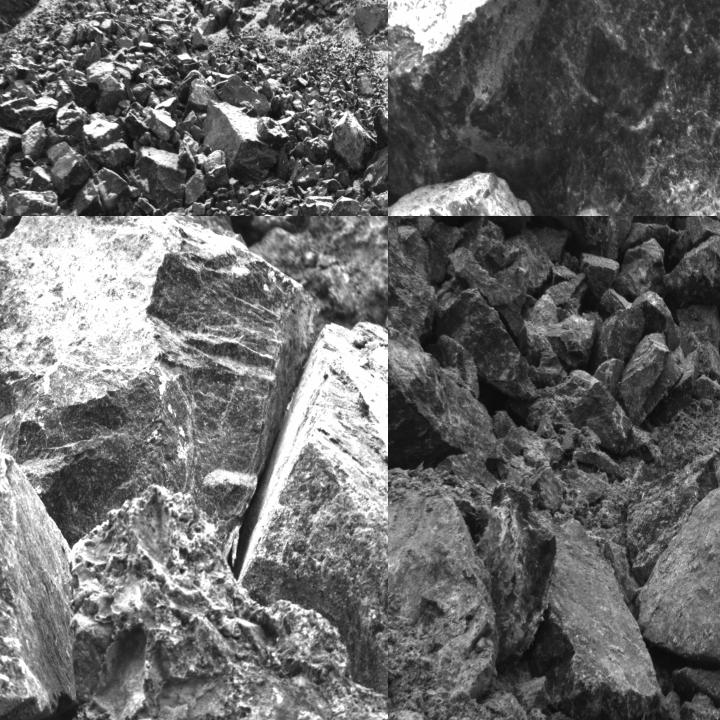stone: (0, 216, 320, 560), (388, 0, 719, 215), (528, 508, 659, 719), (388, 463, 486, 695), (388, 308, 498, 467), (637, 496, 719, 692), (388, 168, 719, 215), (475, 482, 556, 660), (432, 275, 536, 403), (623, 457, 716, 584), (448, 247, 556, 356), (526, 371, 636, 451), (656, 229, 719, 332), (618, 332, 685, 424), (203, 101, 276, 185), (123, 146, 186, 210), (535, 216, 633, 257), (543, 314, 598, 375), (594, 308, 646, 371), (429, 336, 481, 396), (503, 233, 552, 294), (72, 168, 130, 215), (84, 117, 138, 167), (616, 240, 664, 296), (332, 112, 376, 171), (48, 142, 94, 194), (217, 74, 272, 114), (88, 61, 128, 115), (675, 309, 719, 358), (0, 97, 59, 133), (580, 255, 620, 299), (0, 188, 59, 215), (54, 102, 88, 144), (594, 359, 625, 401), (363, 145, 387, 196), (255, 116, 290, 150), (685, 216, 719, 250), (186, 79, 218, 114), (470, 216, 539, 232), (19, 121, 46, 160), (202, 149, 230, 186), (145, 108, 175, 140), (185, 167, 208, 205), (317, 199, 363, 215), (373, 103, 387, 153)
